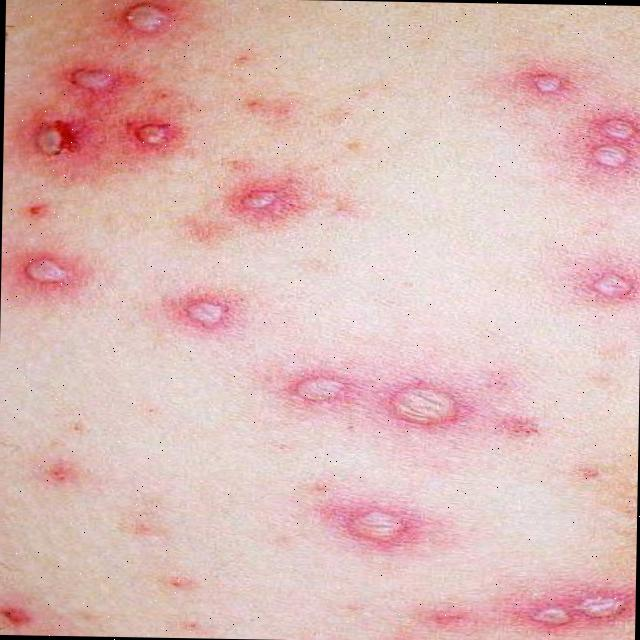kan emici bocekler: (326, 498, 428, 554), (380, 374, 476, 431), (223, 172, 315, 229), (10, 244, 88, 294), (588, 108, 640, 175), (24, 114, 86, 165), (175, 289, 243, 335), (62, 59, 128, 99), (113, 1, 181, 38), (514, 65, 584, 100), (289, 373, 355, 406), (129, 117, 185, 149)
